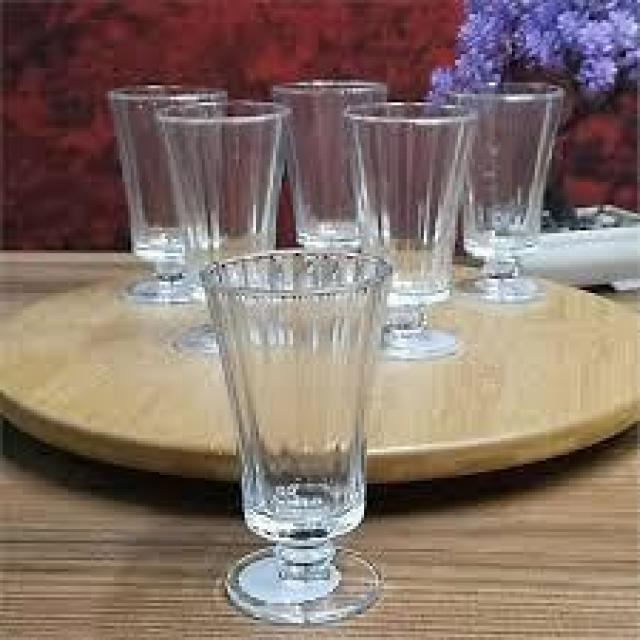glass: (196, 244, 387, 626)
